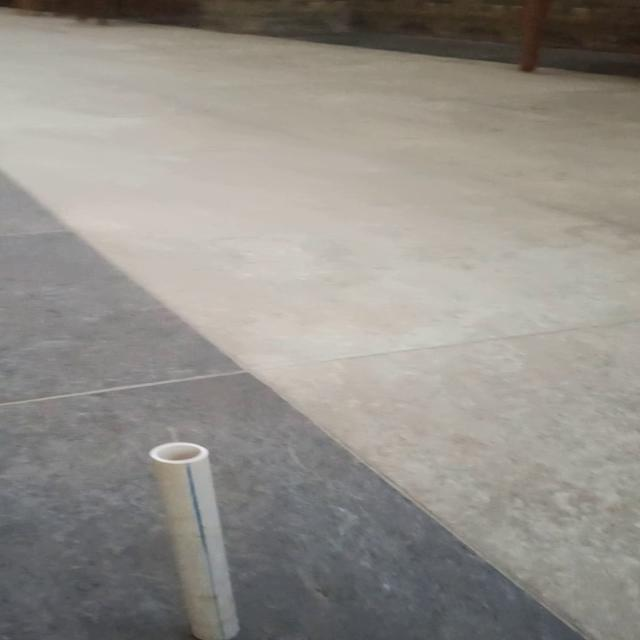Cube: (146, 441, 242, 639)
